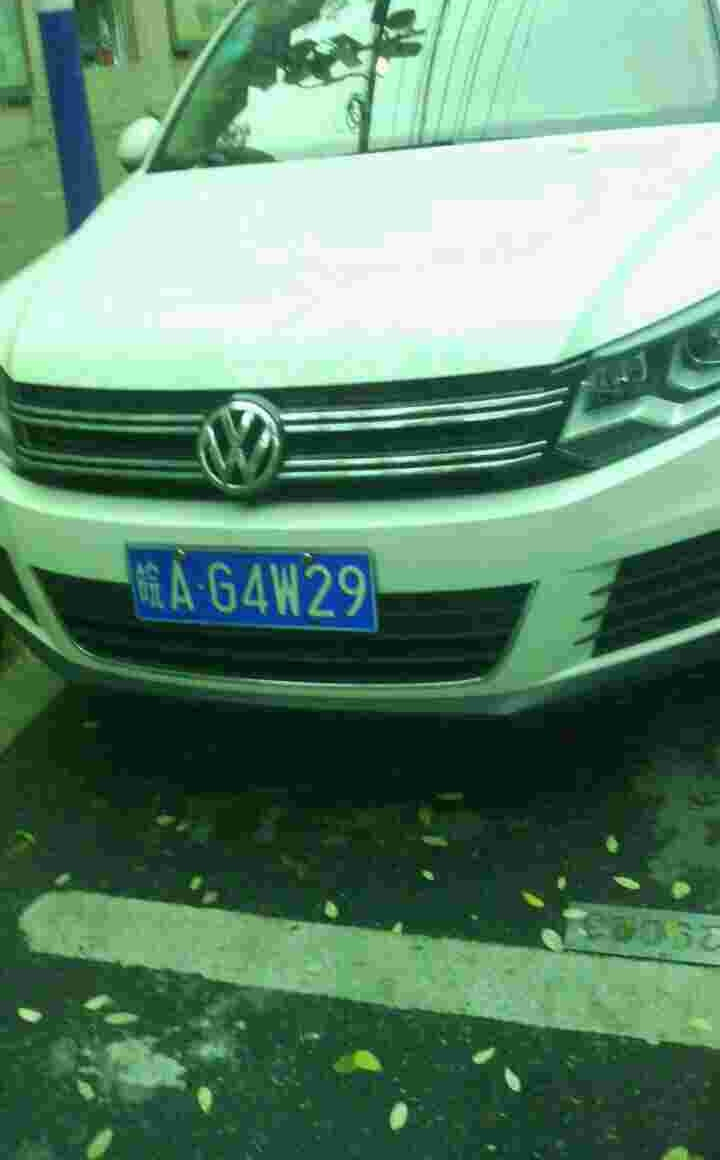plate: (122, 540, 385, 637)
